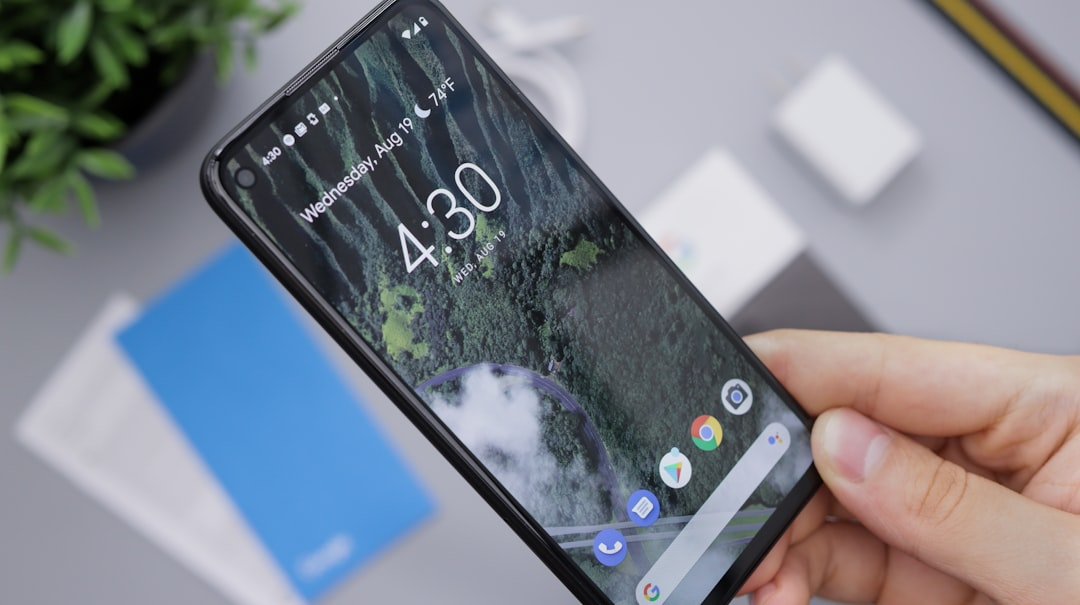phone: (199, 1, 837, 605)
